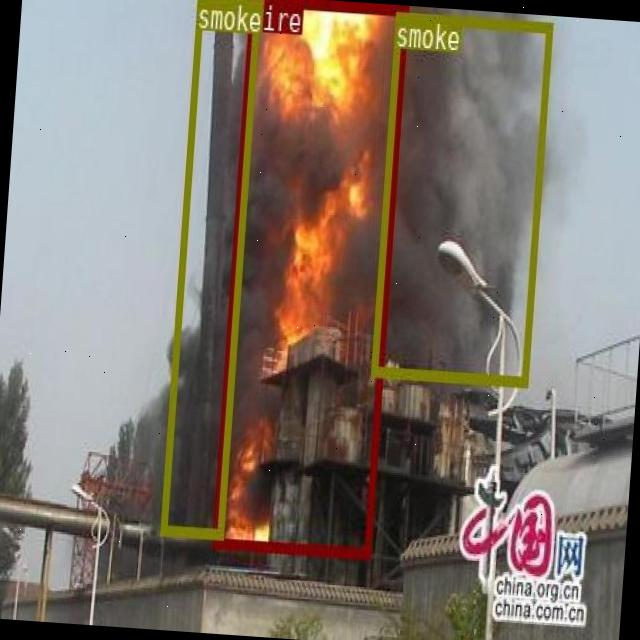fire: (210, 0, 408, 555)
smoke: (370, 9, 550, 384), (158, 0, 259, 536)
